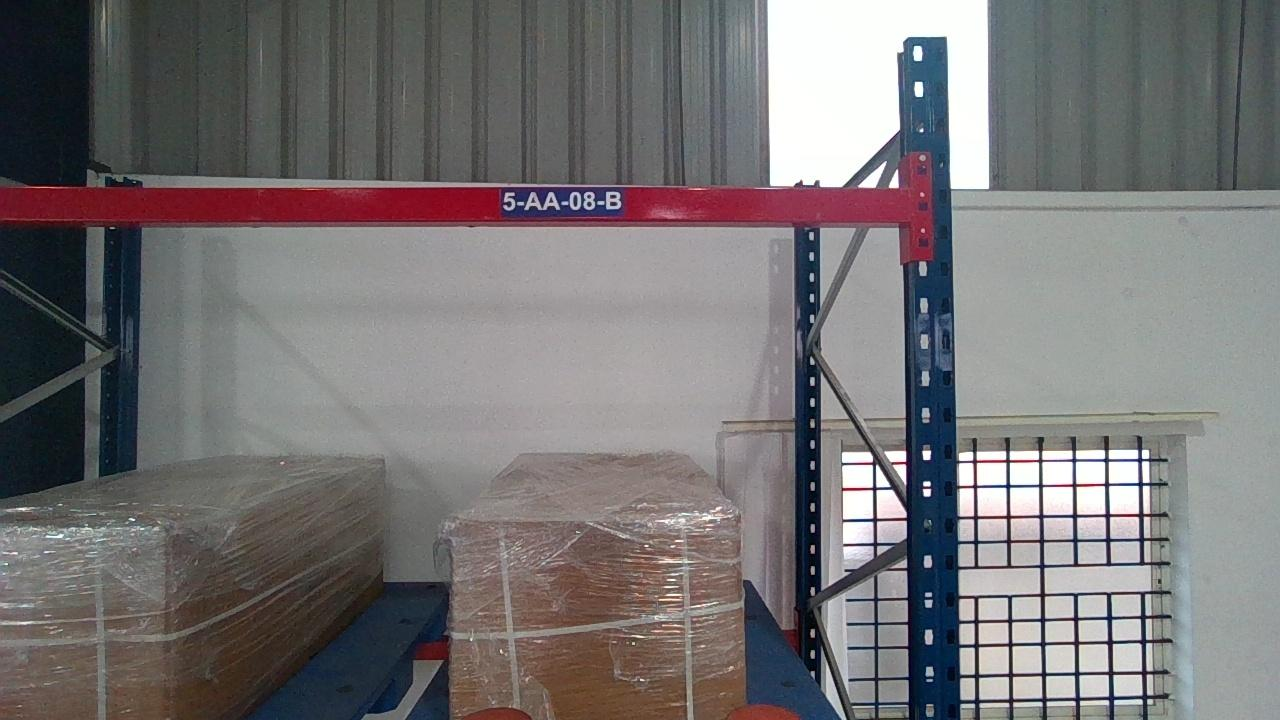h_rack: (0, 182, 908, 224)
